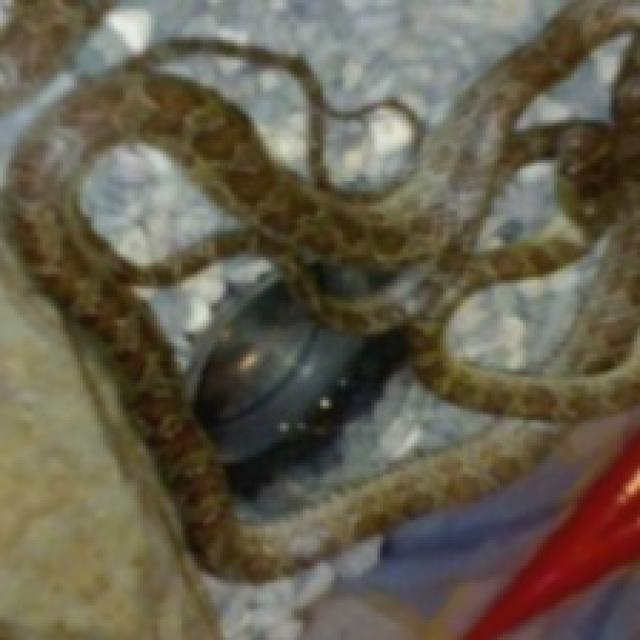mullers wolf snake: (3, 0, 637, 580), (217, 334, 483, 526), (134, 251, 274, 374), (446, 271, 577, 369), (514, 31, 631, 129)
